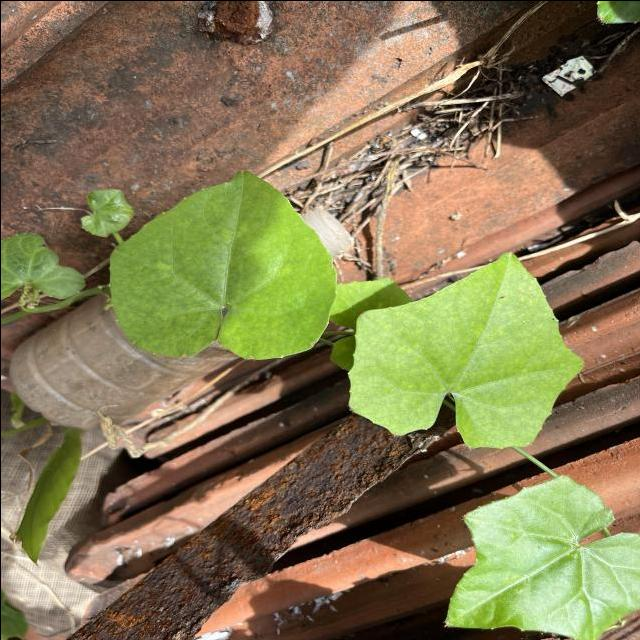Coccinia grandis: (346, 250, 586, 450), (107, 168, 338, 361)
